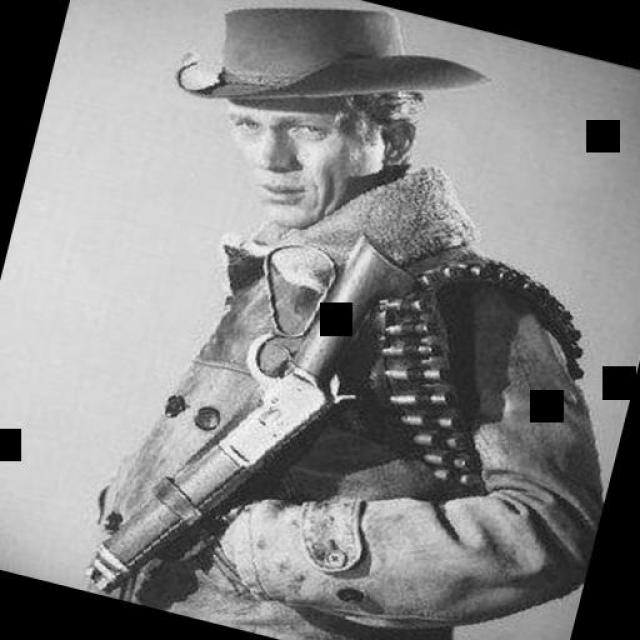gun: (78, 207, 431, 640)
